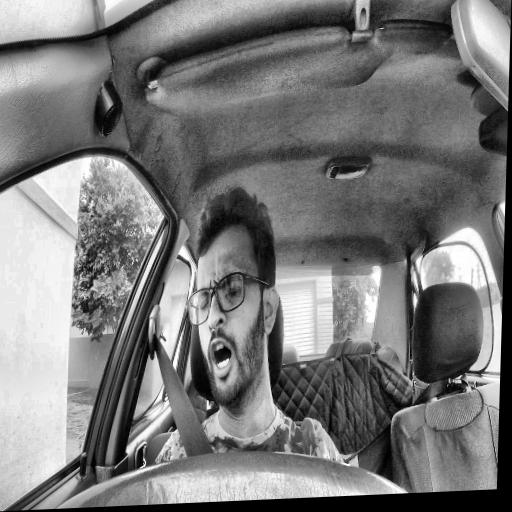drowsy: (183, 182, 284, 410)
